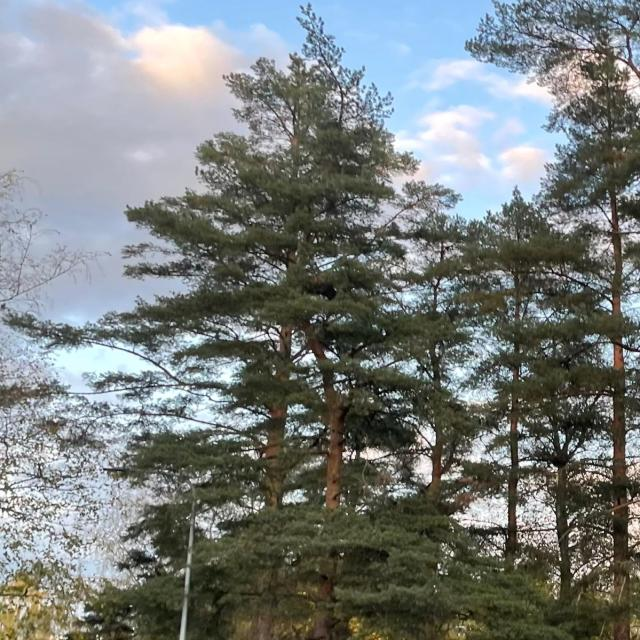pine: (36, 11, 534, 640)
